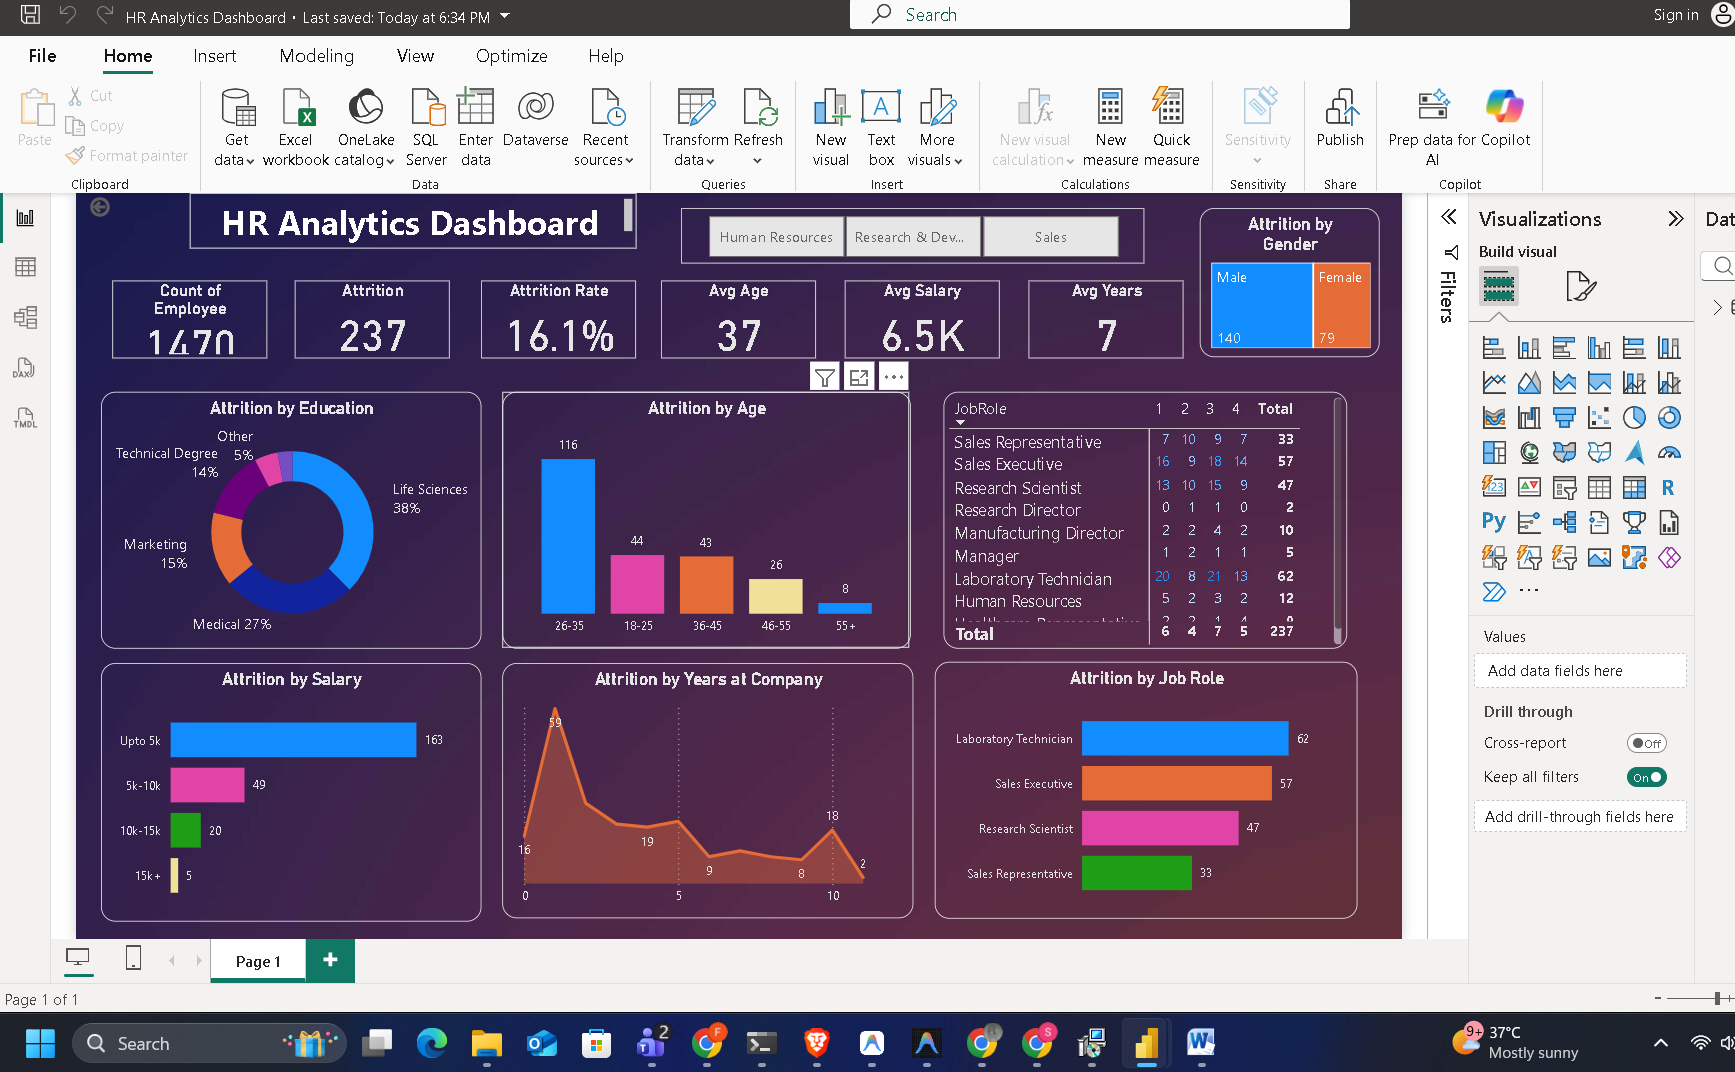

Layout of this report page (visuals, bound fields, positions):
{"tool":"powerbi","page":{"name":"Page 1","canvas":[1280,720],"ordinal":0},"visuals":[{"type":"card","title":"Count of Employee","fields":{"Values":["CountNonNull(HR_Analytics.EmpID)"]},"box":[35.3,84,149.5,75.6],"z":0},{"type":"card","title":"Attrition","fields":{"Values":["Sum(HR_Analytics.AttritionCount)"]},"box":[211.7,84,149.5,75.6],"z":1000},{"type":"card","title":"Attrition Rate","fields":{"Values":["HR_Analytics.AttritionRate"]},"box":[391.4,84,149.5,75.6],"z":2000},{"type":"card","title":"Avg Age","fields":{"Values":["Avg(HR_Analytics.Age)"]},"box":[564.4,84,149.5,75.6],"z":3000},{"type":"actionButton","box":[10.1,0,100.8,26.9],"z":4000},{"type":"card","title":"Avg Salary","fields":{"Values":["Avg(HR_Analytics.MonthlyIncome)"]},"box":[742.5,84,149.5,75.6],"z":5000},{"type":"card","title":"Avg Years","fields":{"Values":["Avg(HR_Analytics.YearsAtCompany)"]},"box":[918.8,84,149.5,75.6],"z":6000},{"type":"donutChart","title":"Attrition by Education","fields":{"Y":["Sum(HR_Analytics.AttritionCount)"],"Category":["HR_Analytics.EducationField","HR_Analytics.YearsAtCompany"]},"box":[24.1,191.3,367.1,248],"z":7000},{"type":"columnChart","title":"Attrition by Age","fields":{"Category":["HR_Analytics.AgeGroup"],"Y":["Sum(HR_Analytics.AttritionCount)"]},"box":[411,191.3,394,248],"z":8000},{"type":"pivotTable","fields":{"Rows":["HR_Analytics.JobRole"],"Columns":["HR_Analytics.JobSatisfaction"],"Values":["Sum(HR_Analytics.AttritionCount)"]},"box":[837.6,191.3,389.8,248],"z":9000},{"type":"barChart","title":"Attrition by Salary","fields":{"Category":["HR_Analytics.SalarySlab"],"Y":["Sum(HR_Analytics.AttritionCount)"]},"box":[24.1,453.5,367.1,249.4],"z":10000},{"type":"barChart","title":"Attrition by Job Role","fields":{"Category":["HR_Analytics.JobRole"],"Y":["Sum(HR_Analytics.AttritionCount)"]},"box":[829.1,452.1,408.2,248],"z":11000},{"type":"areaChart","title":"Attrition by Years at Company","fields":{"Category":["HR_Analytics.YearsAtCompany"],"Y":["Sum(HR_Analytics.AttritionCount)"]},"box":[411,453.5,396.9,246.6],"z":12000},{"type":"treemap","title":"Attrition by Gender","fields":{"Group":["HR_Analytics.Gender"],"Values":["Sum(HR_Analytics.AttritionCount)"]},"box":[1085,14.1,174,144.3],"z":13000},{"type":"slicer","fields":{"Values":["HR_Analytics.Department"]},"box":[584.2,14.1,447,53.8],"z":14000},{"type":"textbox","box":[110.3,0,431.4,53.8],"z":15000}]}

Visuals, with their boxes on the page's 1280x720 design canvas (x1, y1, x2, y2). These are canvas units, not pixel positions in the 1735x1072 screenshot, which may show the page scaled, cropped or inside an application window:
"Count of Employee" card: 35 84 185 160
"Attrition" card: 212 84 361 160
"Attrition Rate" card: 391 84 541 160
"Avg Age" card: 564 84 714 160
actionButton: 10 0 111 27
"Avg Salary" card: 742 84 892 160
"Avg Years" card: 919 84 1068 160
"Attrition by Education" donutChart: 24 191 391 439
"Attrition by Age" columnChart: 411 191 805 439
pivotTable - HR_Analytics.JobRole x HR_Analytics.JobSatisfaction: 838 191 1227 439
"Attrition by Salary" barChart: 24 454 391 703
"Attrition by Job Role" barChart: 829 452 1237 700
"Attrition by Years at Company" areaChart: 411 454 808 700
"Attrition by Gender" treemap: 1085 14 1259 158
slicer - HR_Analytics.Department: 584 14 1031 68
textbox: 110 0 542 54
